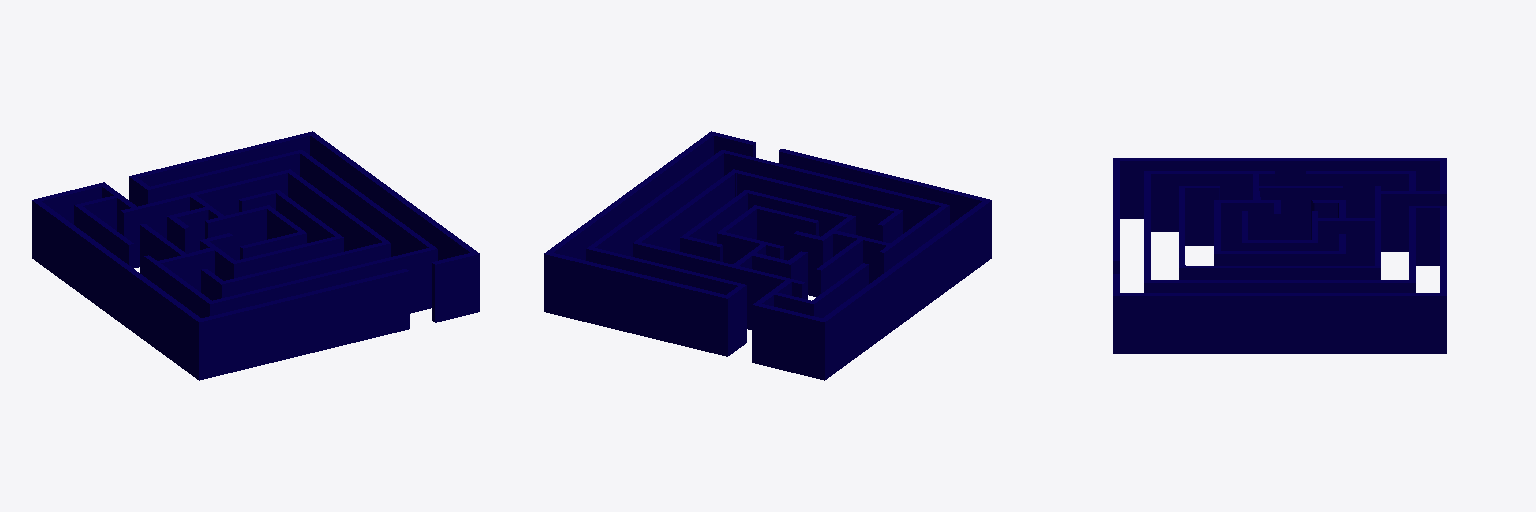
File: maze1.obj
The picture shows the model from 3 angles: view 1: azimuth 30°, elevation 25°; view 2: azimuth 150°, elevation 25°; view 3: azimuth 270°, elevation 25°; orthographic projection.
Parts seen in each view (by area): view 1: vector_maze_line_black_icon; view 2: vector_maze_line_black_icon; view 3: vector_maze_line_black_icon.
Boxes of the visible parts, x1,y1,x2,y2 form: vector_maze_line_black_icon: [32, 131, 479, 380]; vector_maze_line_black_icon: [544, 131, 991, 380]; vector_maze_line_black_icon: [1113, 158, 1446, 353].
Size of the model in its own units: 34.82 by 6.87 by 35.91.